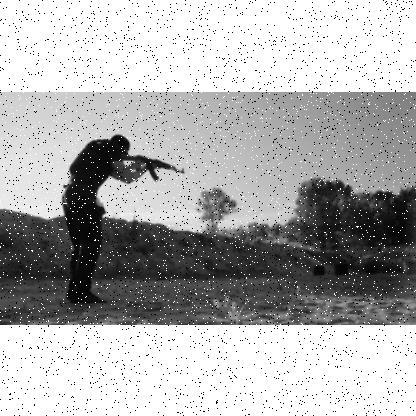gun: (111, 152, 187, 178)
